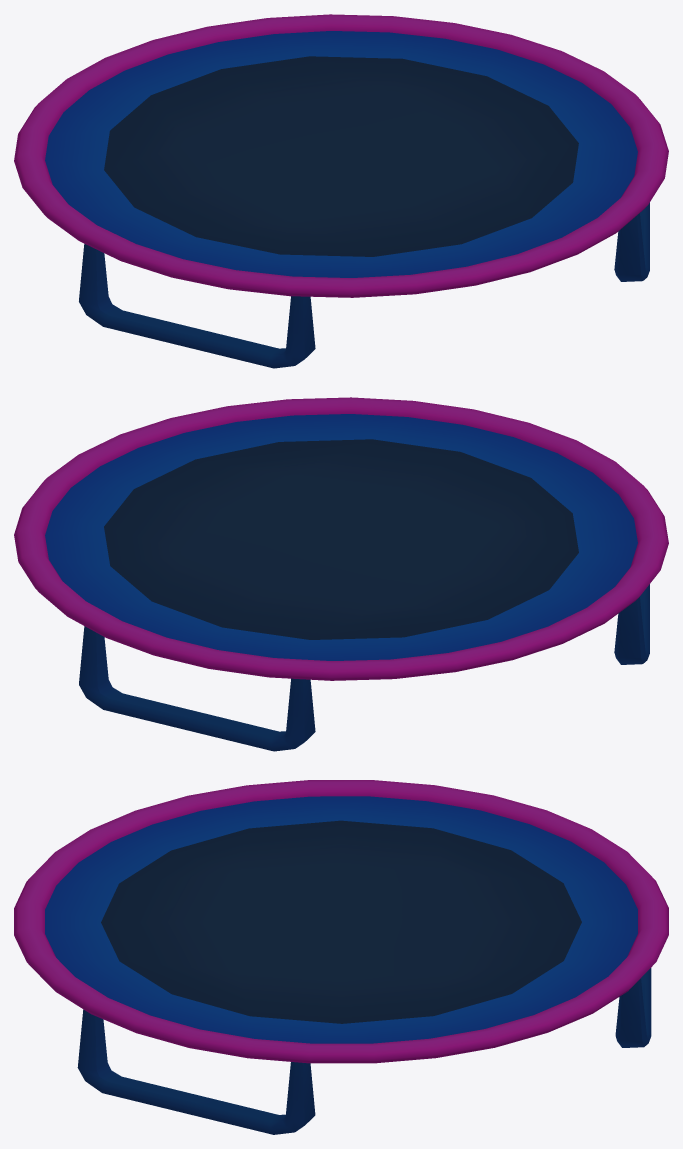
Rendered from trampoline.glb.
The picture shows the model from 3 angles, top to bottom: view 1: azimuth 30°, elevation 25°; view 2: azimuth 150°, elevation 25°; view 3: azimuth 270°, elevation 25°; orthographic projection.
Parts seen in each view (by area): view 1: trampoline; view 2: trampoline; view 3: trampoline.
Boxes of the visible parts, <box> form: trampoline: <box>14,14,668,368</box>; trampoline: <box>14,397,668,751</box>; trampoline: <box>14,780,668,1134</box>.
Size of what is drawn, in the model's own units: 13.41 by 1.97 by 13.41.
Materials: 1 (1 with a texture image).
